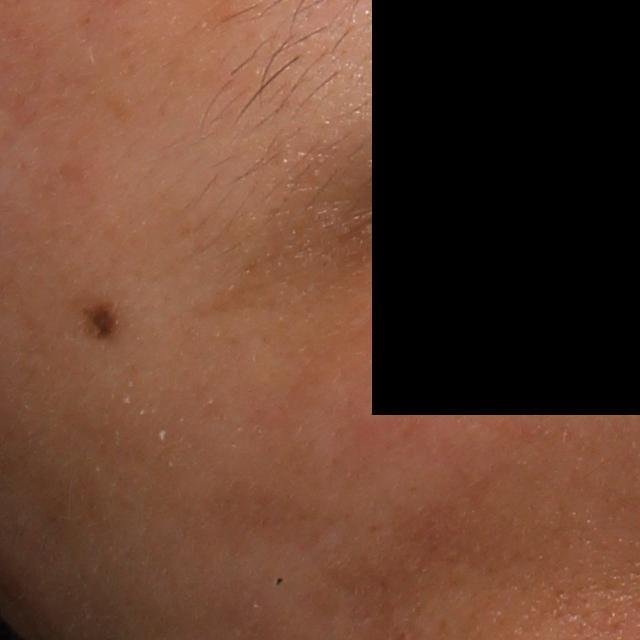nevus: (84, 303, 127, 342)
